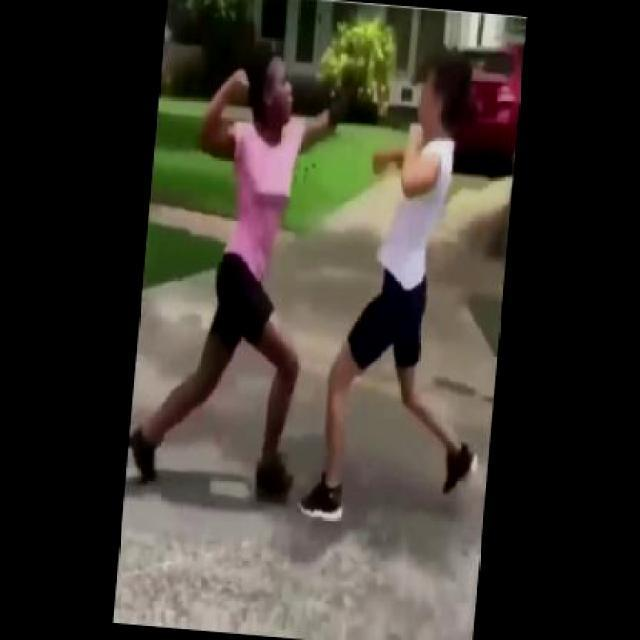fight: (162, 42, 468, 524)
